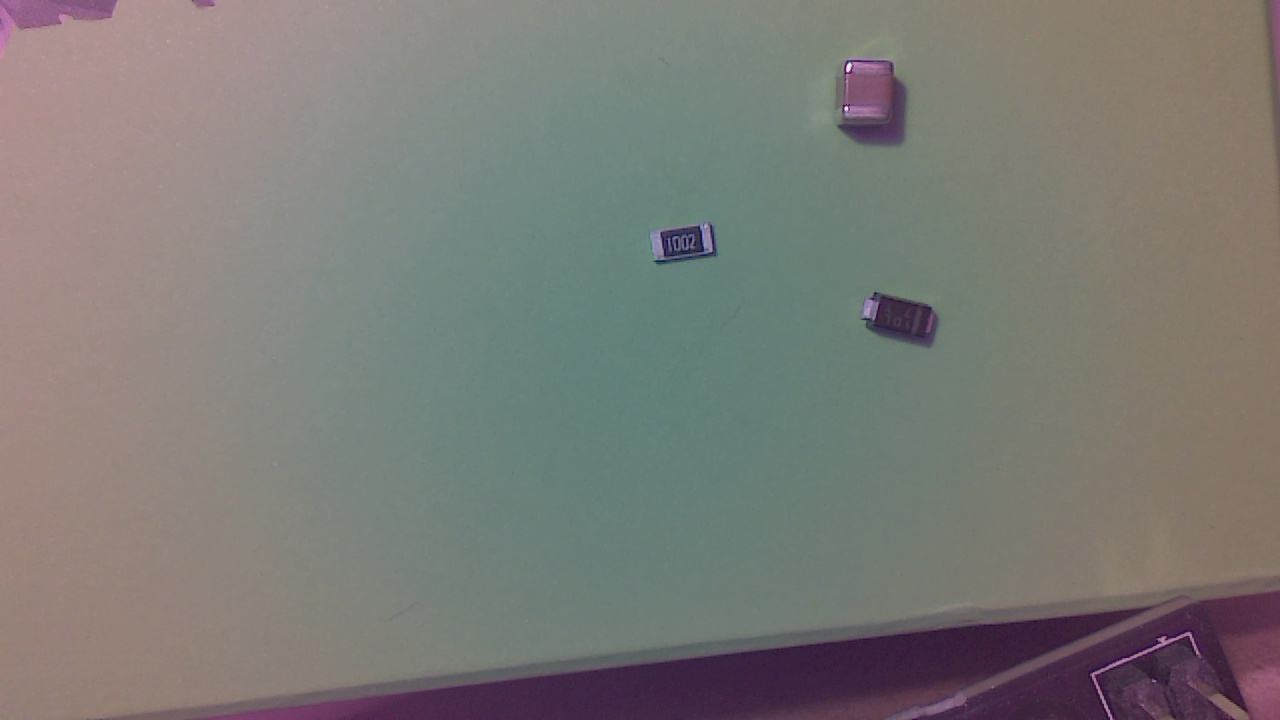Condensator: (839, 64, 901, 131)
Diode: (864, 295, 943, 348)
Resistor: (656, 224, 724, 269)
